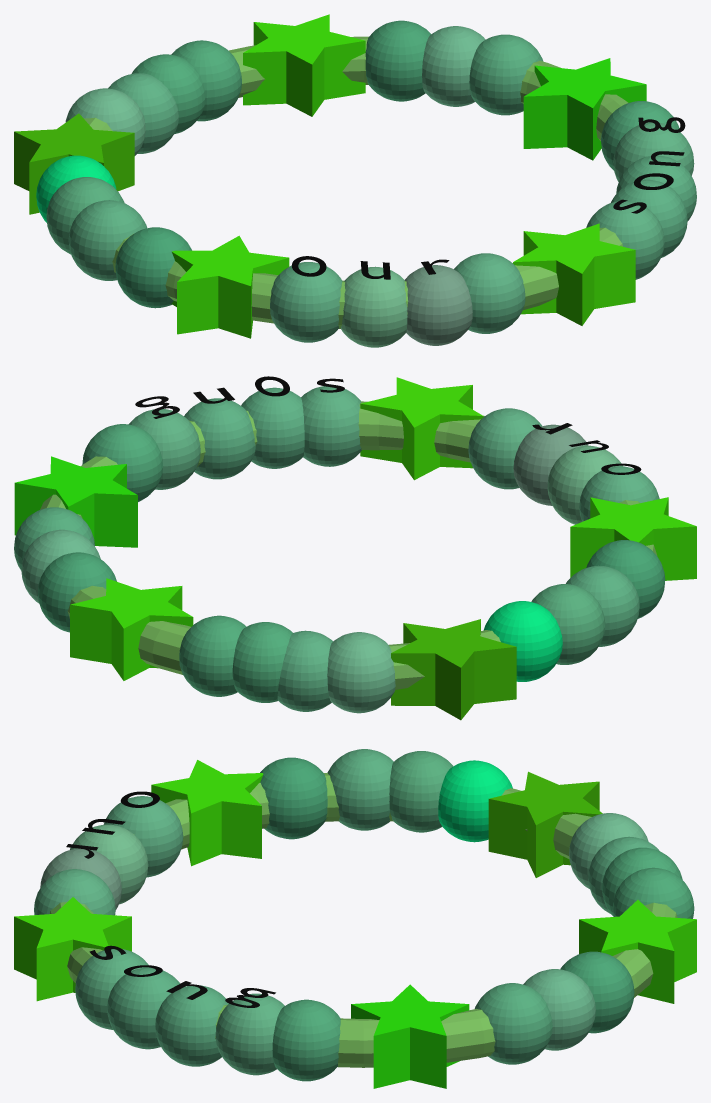
File: TaylorSwift_OurSong.fbx
The picture shows the model from 3 angles, top to bottom: view 1: azimuth 30°, elevation 25°; view 2: azimuth 150°, elevation 25°; view 3: azimuth 270°, elevation 25°; orthographic projection.
Visible parts, largest first — view 1: Star.080, Star.076, Star.077, Star.079, Torus.024, Star.078, Sphere.471, Sphere.469, Sphere.470, Sphere.481, Sphere.483, Sphere.477 (+14 smaller); view 2: Star.078, Torus.024, Star.080, Star.077, Star.079, Star.076, Sphere.475, Sphere.486, Sphere.468, Sphere.485, Sphere.478, Sphere.479 (+14 smaller); view 3: Torus.024, Star.079, Star.077, Star.078, Star.076, Star.080, Sphere.484, Sphere.483, Sphere.472, Sphere.485, Sphere.476, Sphere.468 (+14 smaller).
Part boxes in pixels (x1,y1,x2,y2): Star.080: [243, 14, 365, 116]; Star.076: [513, 223, 635, 325]; Star.077: [523, 58, 646, 160]; Star.079: [171, 235, 289, 338]; Torus.024: [84, 36, 628, 328]; Star.078: [14, 113, 134, 214]; Sphere.471: [270, 262, 342, 342]; Sphere.469: [405, 265, 472, 345]; Sphere.470: [341, 266, 407, 347]; Sphere.481: [365, 20, 431, 101]; Sphere.483: [469, 34, 543, 115]; Sphere.477: [454, 253, 525, 333]; Star.078: [391, 619, 516, 720]; Torus.024: [40, 401, 657, 689]; Star.080: [70, 578, 193, 680]; Star.077: [14, 456, 137, 547]; Star.079: [570, 497, 696, 580]; Star.076: [360, 377, 483, 480]; Sphere.475: [327, 632, 395, 713]; Sphere.486: [301, 386, 361, 466]; Sphere.468: [483, 601, 562, 681]; Sphere.485: [184, 398, 255, 479]; Sphere.478: [179, 615, 246, 696]; Sphere.479: [241, 387, 304, 468]; Torus.024: [50, 773, 677, 1067]; Star.079: [151, 760, 263, 866]; Star.077: [351, 984, 469, 1088]; Star.078: [488, 771, 602, 877]; Star.076: [14, 897, 131, 1001]; Star.080: [579, 900, 696, 1003]; Sphere.484: [272, 999, 340, 1081]; Sphere.483: [474, 983, 552, 1064]; Sphere.472: [260, 757, 327, 839]; Sphere.485: [155, 985, 228, 1066]; Sphere.476: [327, 749, 393, 830]; Sphere.468: [438, 760, 512, 842].
Bounding box in the file's own units: 115 × 15.79 × 117.
